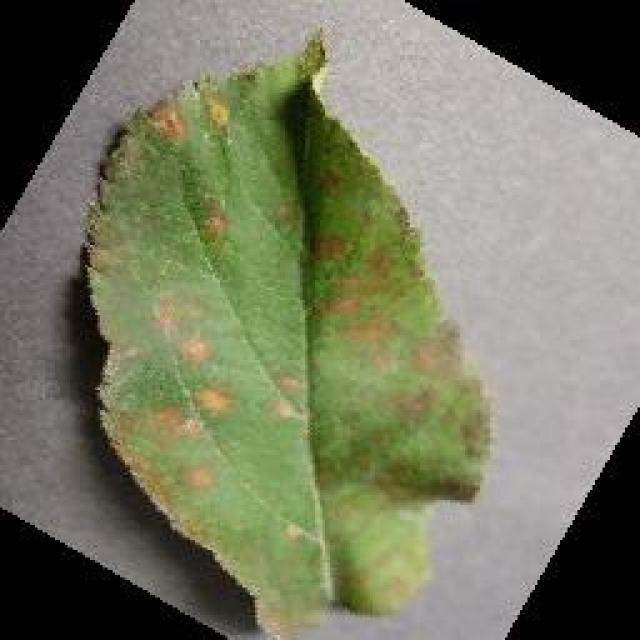apple rust disease: (77, 25, 495, 637)
